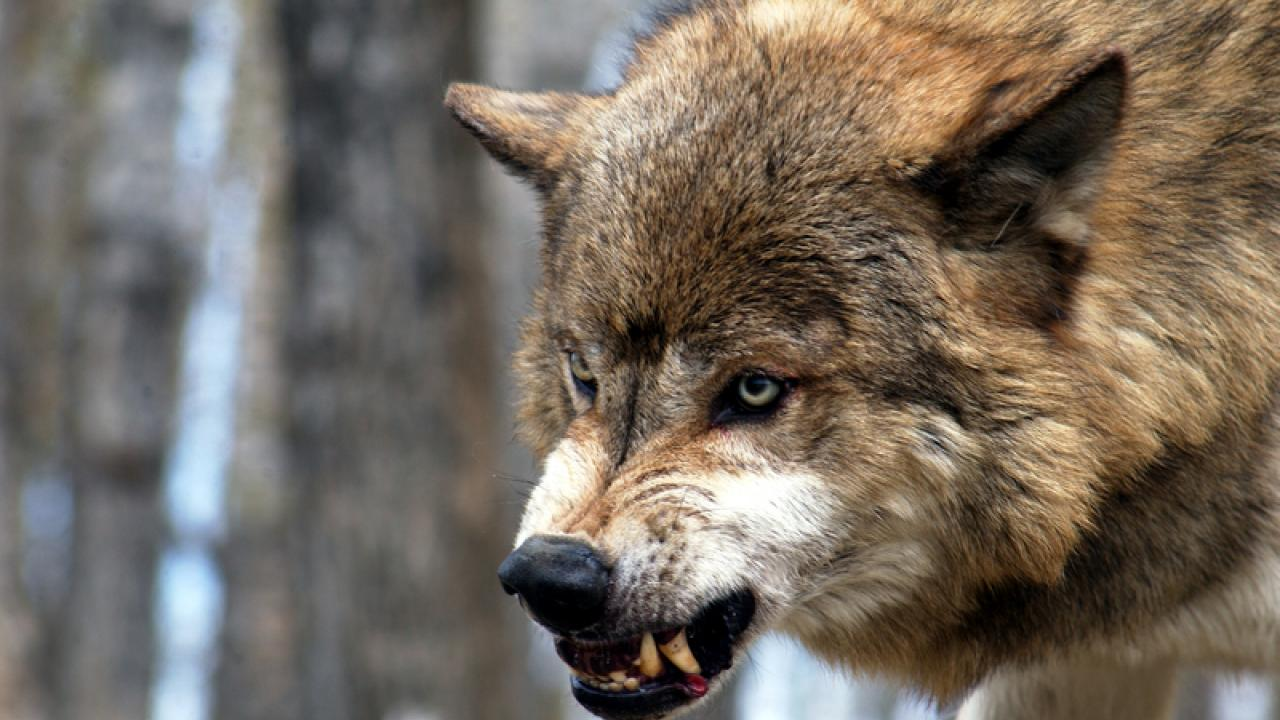Lobo: (410, 3, 1280, 719)
